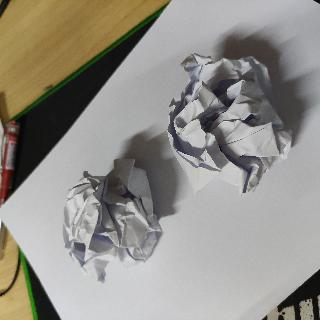8/可回收垃圾/纸: (166, 52, 295, 199), (62, 157, 163, 287)
